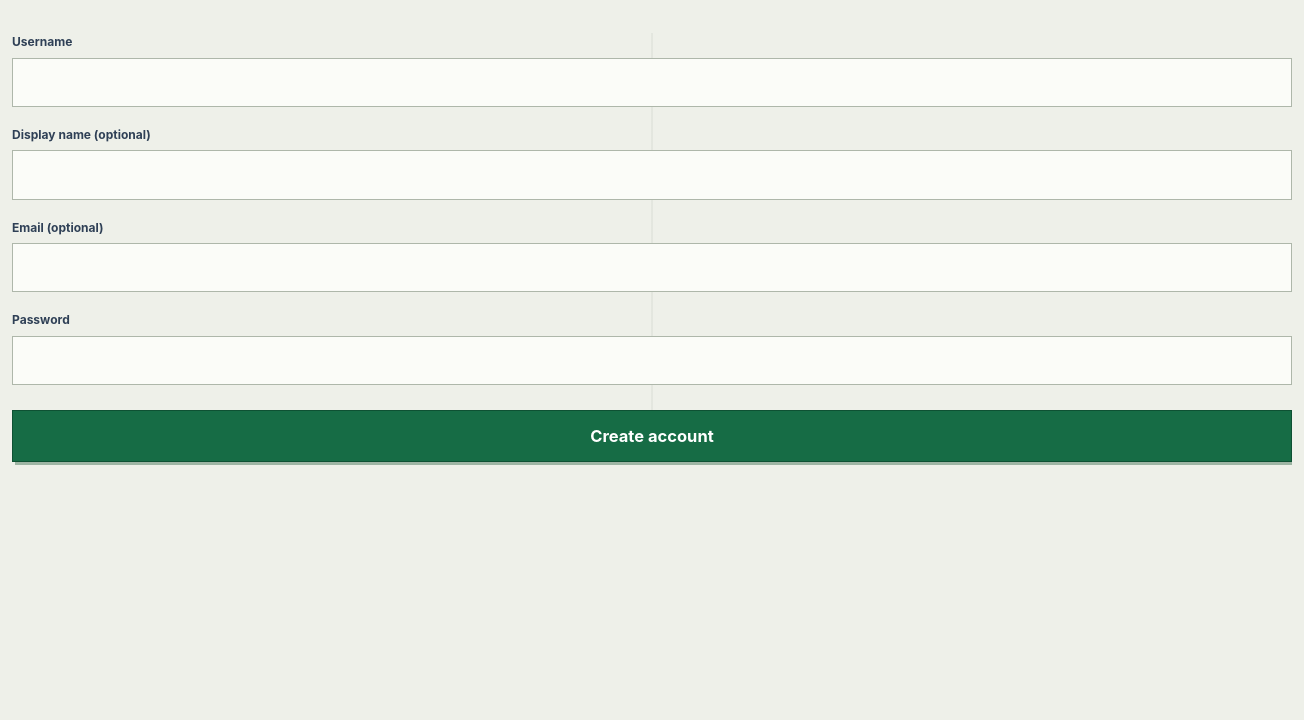
Test: RegisterForm › enforces the frozen username, email, and password constraints before submission
Type "a!" into the field labelled "Username" at (652, 82), box [12,58,1292,107]
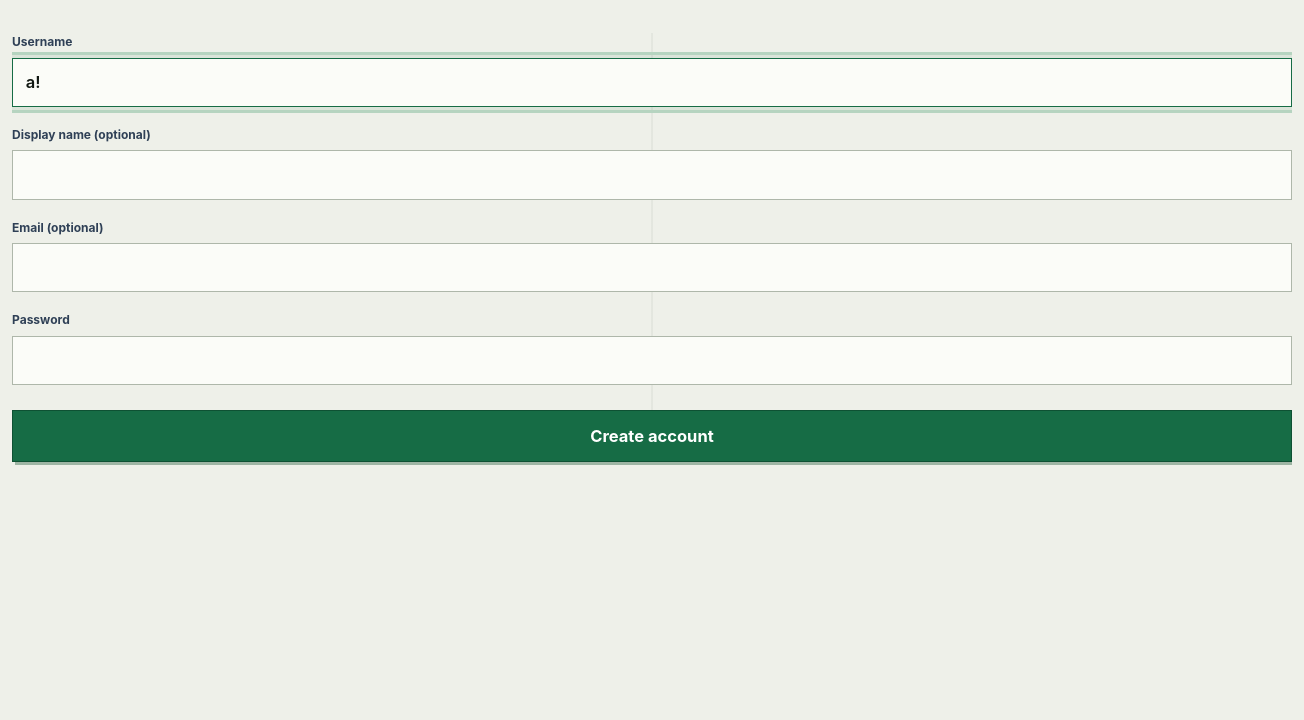
Type "not-email" into the field labelled "Email (optional)" at (652, 268), box [12,243,1292,292]
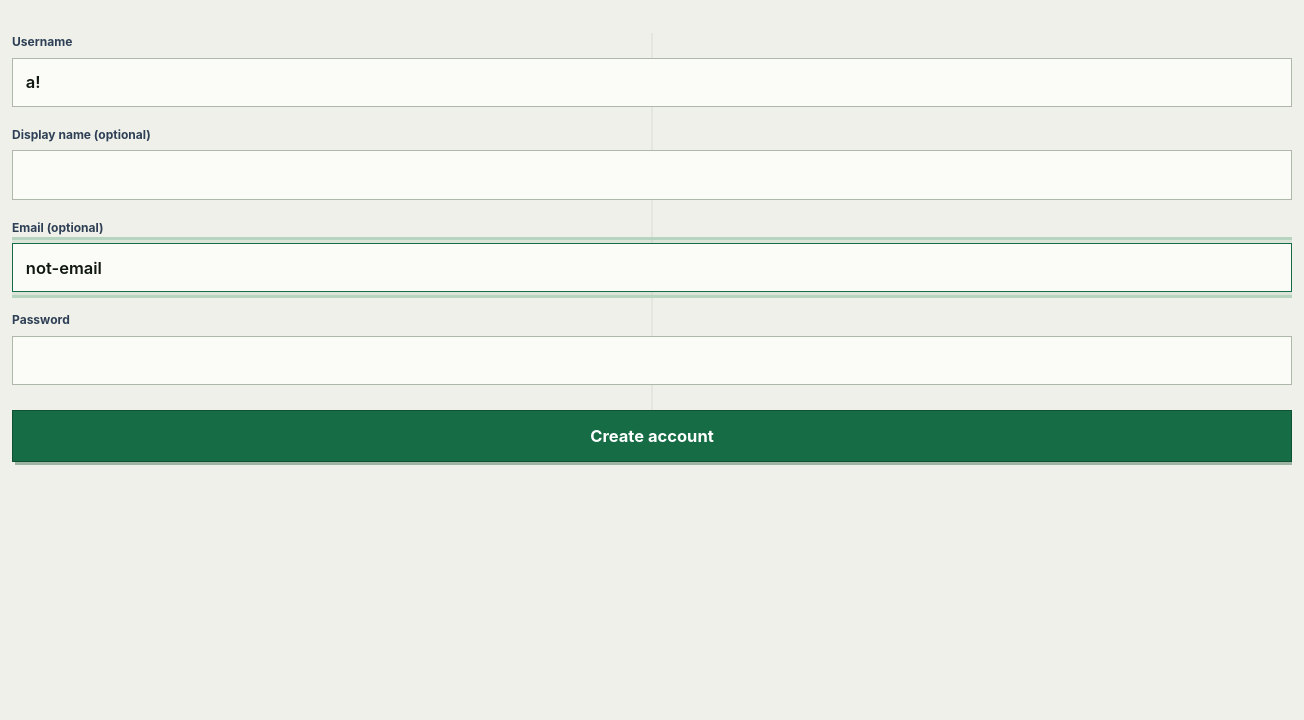
Type "short" into the password field labelled "Password" at (652, 361), box [12,336,1292,385]
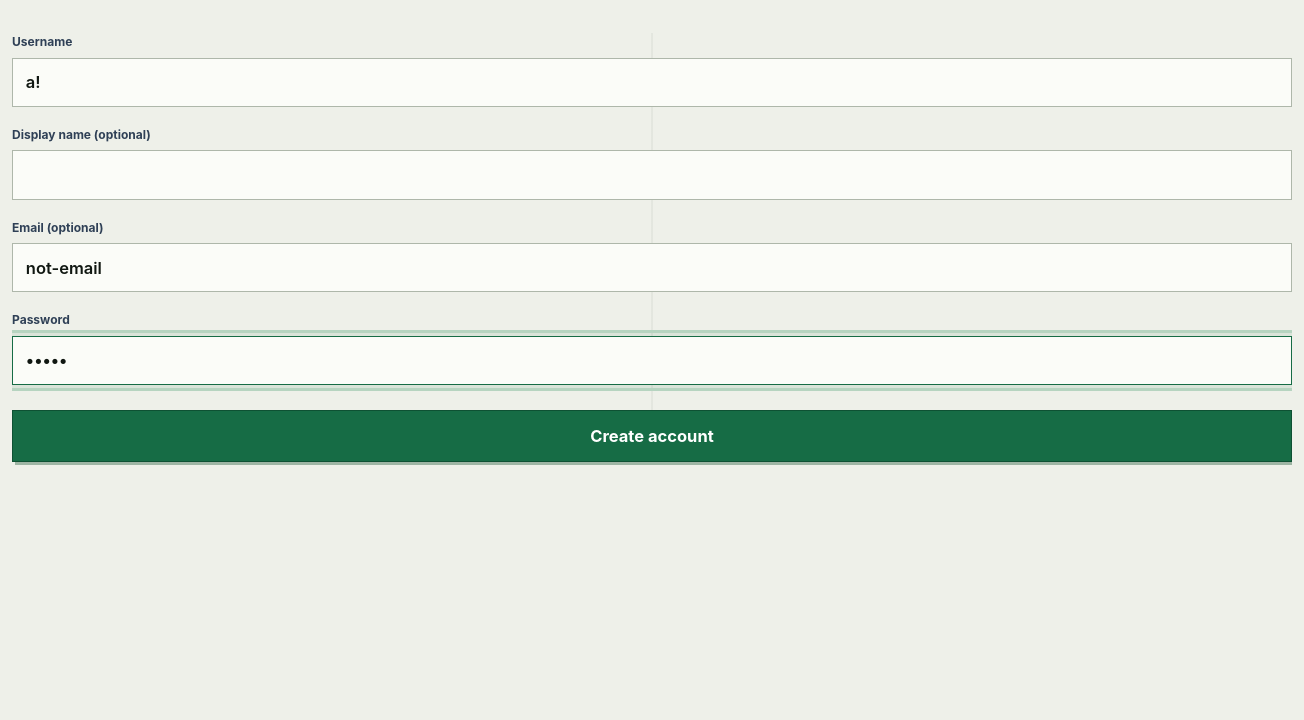
Click the button "Create account" at (652, 436), box [12,410,1292,462]
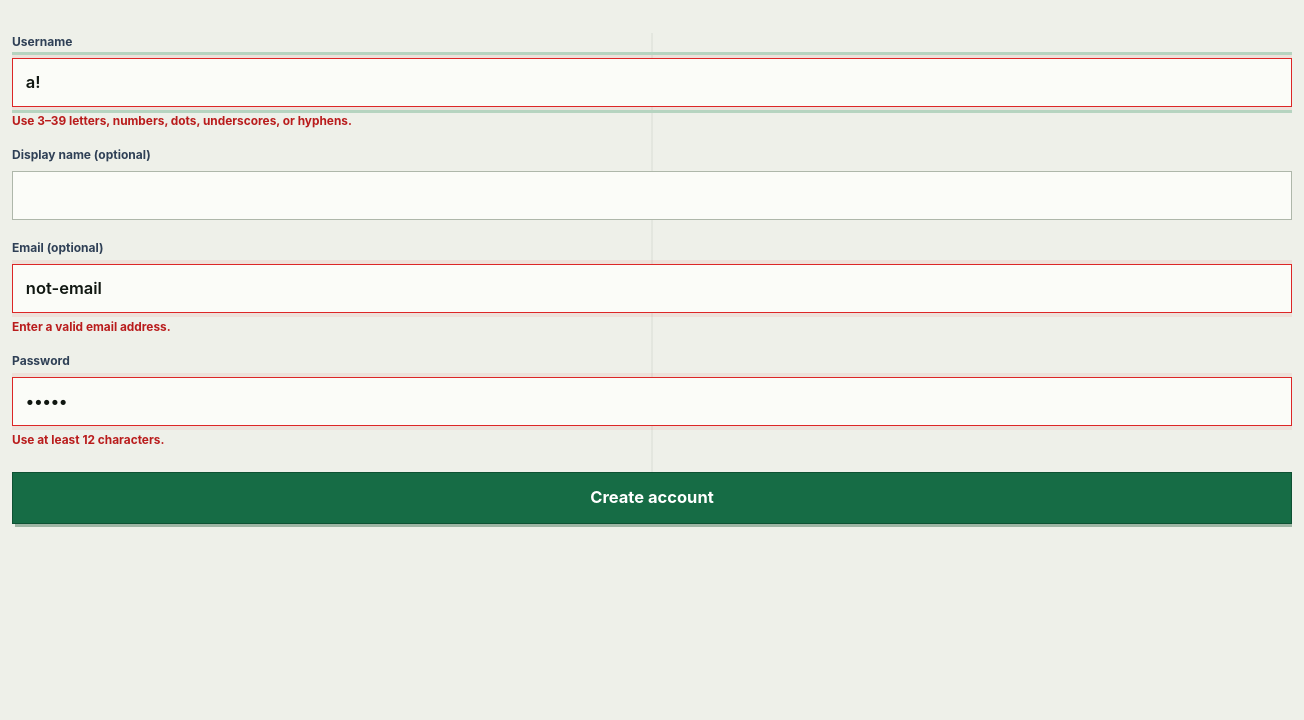
Expected: the text "Use 3–39 letters, numbers, dots, underscores, or hyphens." is shown, [12,113,352,128]
Expected: the text "Enter a valid email address." is shown, [12,319,171,334]
Expected: the text "Use at least 12 characters." is shown, [12,432,164,447]
